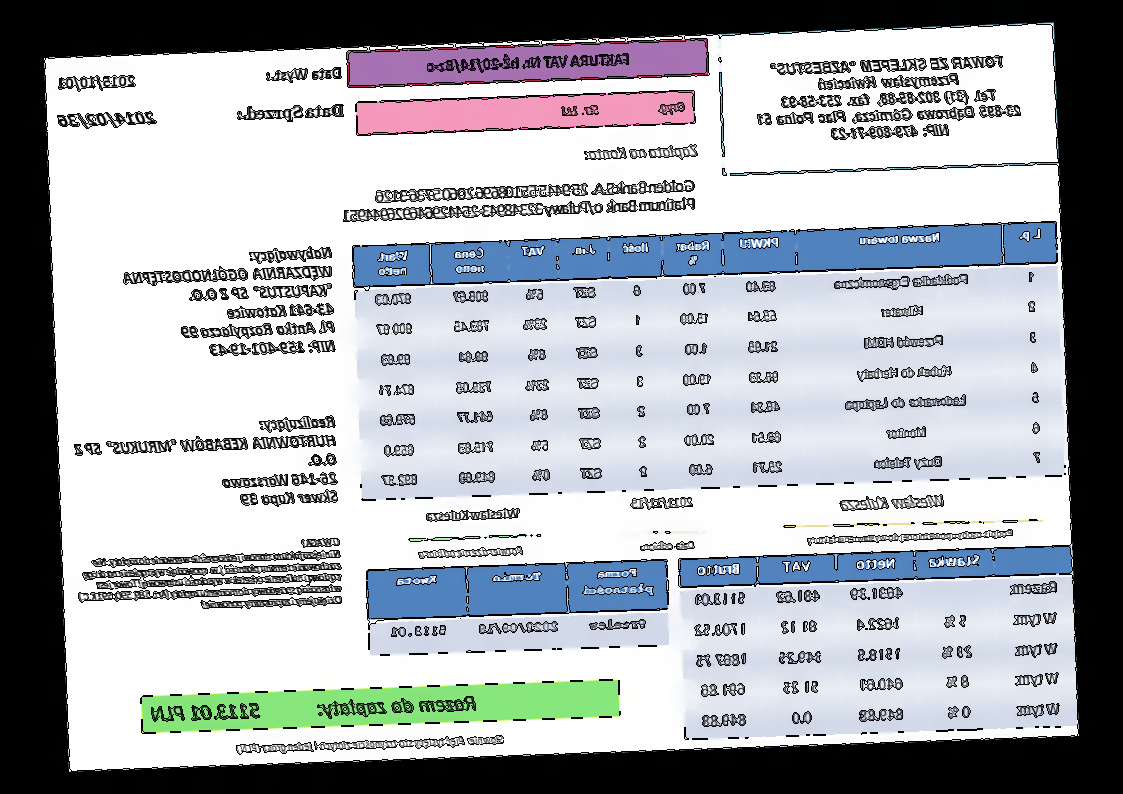Table: (353, 218, 1066, 499), (678, 544, 1078, 740), (365, 558, 672, 657)
TextBox: (71, 412, 340, 514), (118, 245, 337, 363), (752, 53, 1025, 146), (74, 535, 345, 616), (339, 177, 697, 225), (148, 691, 479, 725), (234, 732, 506, 757), (425, 48, 631, 77), (805, 525, 1015, 547), (582, 141, 701, 165), (234, 102, 345, 126), (837, 491, 947, 514), (559, 99, 688, 118), (56, 109, 157, 133), (424, 504, 522, 524), (417, 543, 525, 561), (56, 72, 137, 92), (264, 65, 343, 85), (629, 493, 696, 513), (640, 538, 697, 553)
